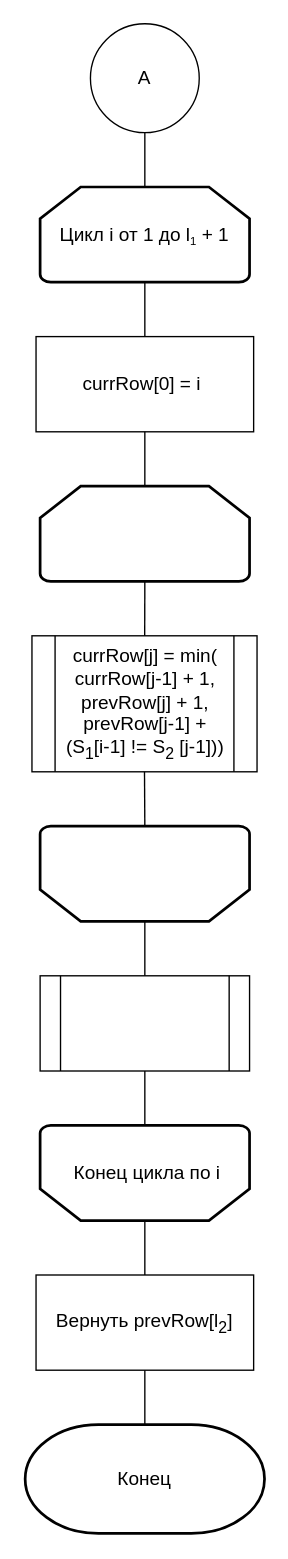
This 288x1559 diagram has some shape labels left out. Here are the shapes that lost their labels. From the top down, the box of each, then its label:
(38, 484, 250, 582): Цикл j от 1 до l 2 + 1
(38, 824, 250, 922): Конец цикла по j
(39, 974, 250, 1071): swap(prevRow, currRow)
